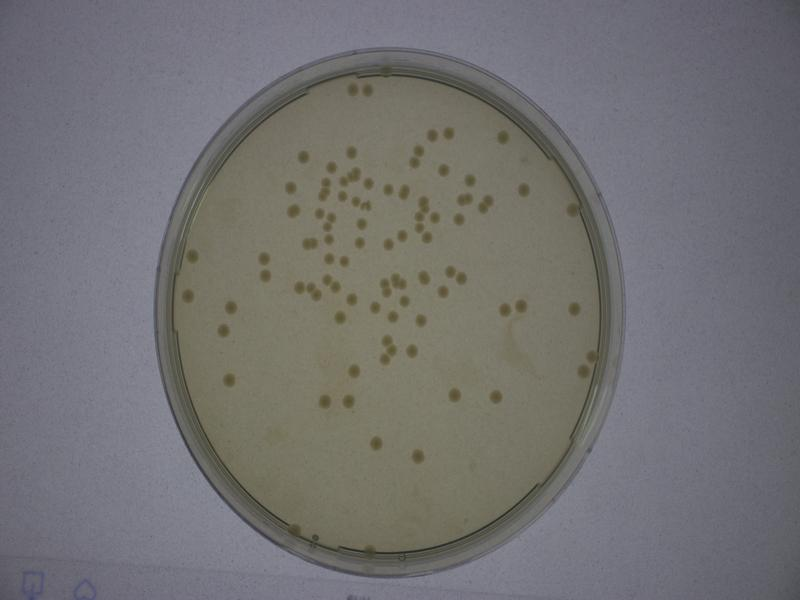colony: (481, 382, 513, 411), (559, 292, 585, 322), (510, 293, 534, 324), (211, 319, 236, 348), (361, 433, 388, 459), (219, 369, 248, 393), (309, 390, 338, 414), (429, 281, 455, 306), (407, 442, 434, 466), (338, 361, 374, 379), (488, 296, 512, 322), (512, 176, 535, 203), (220, 293, 244, 317), (441, 382, 466, 405), (458, 171, 487, 189), (255, 267, 277, 290), (329, 304, 349, 329), (434, 157, 456, 179), (450, 209, 471, 232), (366, 298, 386, 322), (410, 307, 431, 329), (278, 176, 299, 198), (352, 212, 372, 234), (293, 146, 313, 168), (337, 393, 360, 412), (404, 337, 421, 362), (439, 123, 459, 144), (254, 246, 274, 267), (341, 141, 363, 160), (393, 224, 410, 247), (319, 247, 336, 270), (381, 180, 399, 200), (385, 306, 400, 329), (336, 252, 353, 271), (346, 291, 363, 310), (353, 235, 369, 255), (397, 290, 413, 310), (363, 175, 378, 195)
